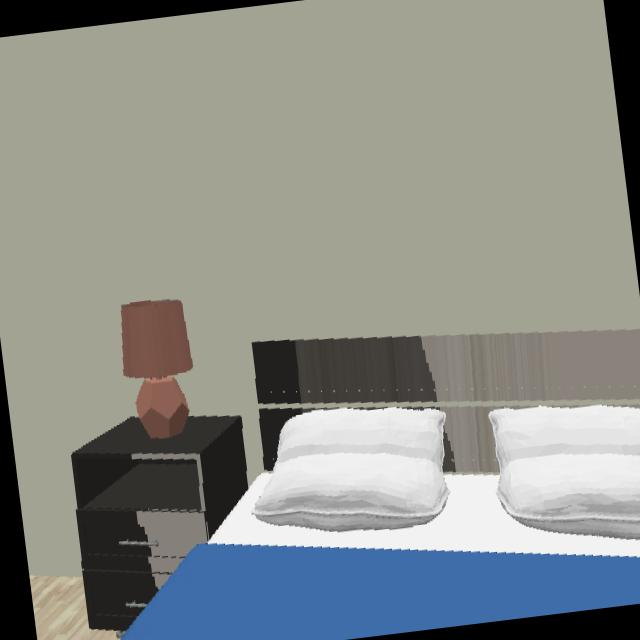bed: (119, 330, 640, 640)
lamp: (121, 300, 194, 437)
nighttable: (71, 417, 249, 630)
pillow: (208, 407, 452, 548), (488, 405, 640, 542)
